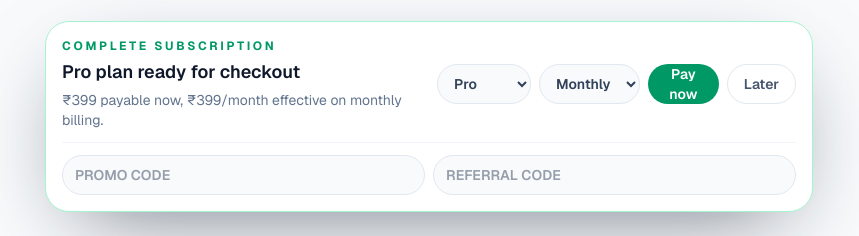
Test case: PendingSubscriptionCheckout › reprices and re-remembers when the billing cycle is changed
Expected: the heading "Pro plan ready for checkout" is shown, [62,60,300,83]
Step 1. Select "Yearly" in the dropdown named "Billing cycle" → [590, 84], box [539,64,640,104]
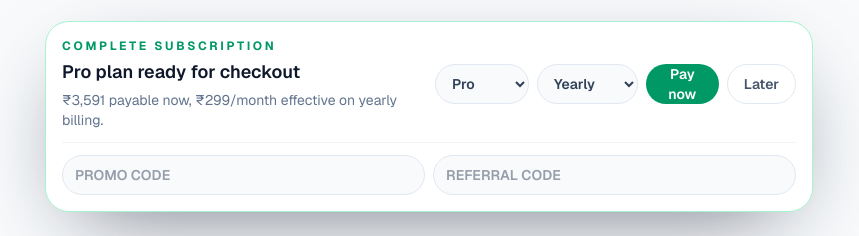
Expected: the text "₹3,591 payable now, ₹299/month effective on yearly billing." is shown, [62,90,419,130]
